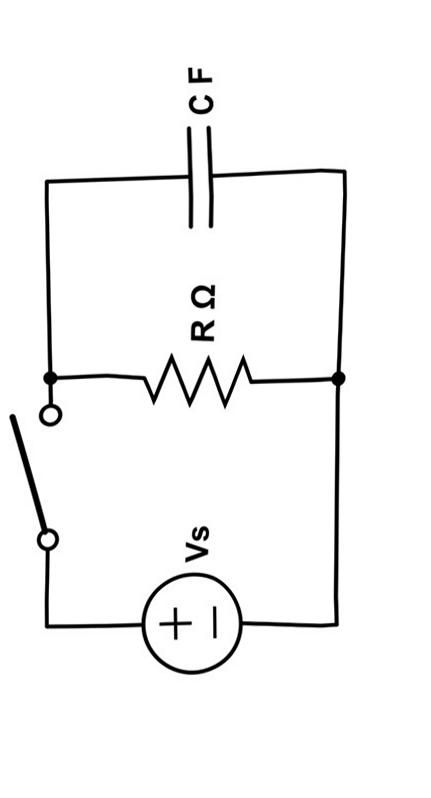Battery: (113, 563, 258, 695)
